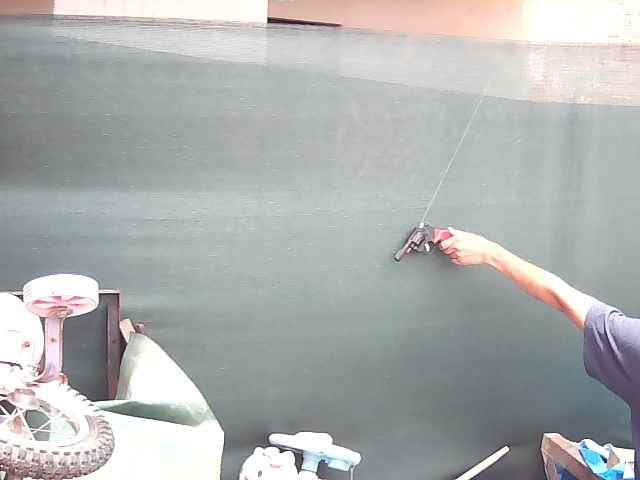pistola: (390, 216, 448, 270)
